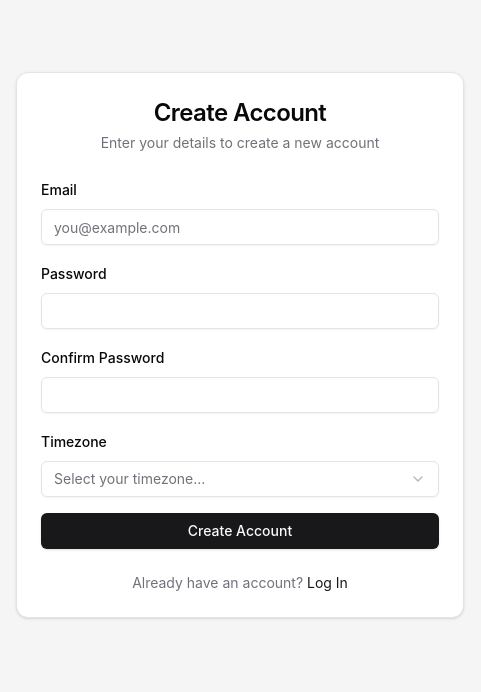
Test: RegisterPage › should show validation error for empty email
Check: the field labelled "Email" is enabled, box [41,209,439,245]
Click the button "Create Account" at (240, 531), box [41,513,439,549]
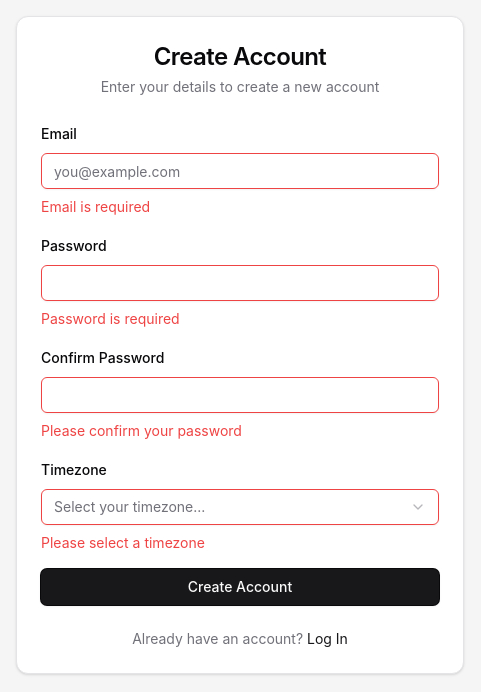
Check: the text "Email is required" is shown, box [41,198,150,215]
